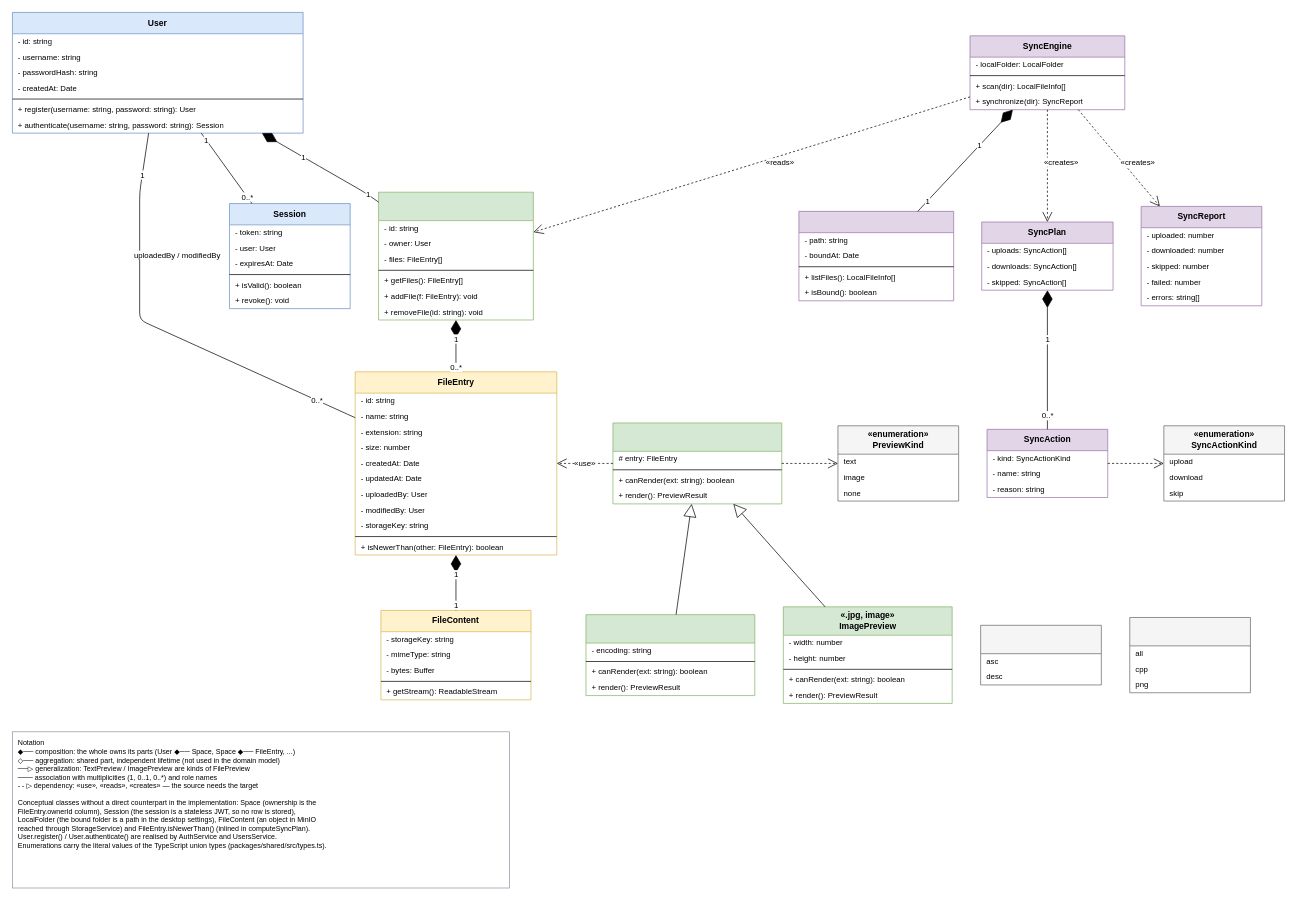
Some shapes in this 1297 by 901 pixel diagram are drawn without their labels. Here are the shapes that lost their labels. From the top down, the box of each, then its label:
(378, 191, 533, 320): «virtual disk» Space
(798, 211, 954, 301): LocalFolder
(612, 422, 782, 504): «abstract» FilePreview
(585, 614, 755, 696): «.cs, text» TextPreview
(980, 625, 1101, 685): «enumeration» SortOrder
(1129, 617, 1250, 693): «enumeration» FileFilter
